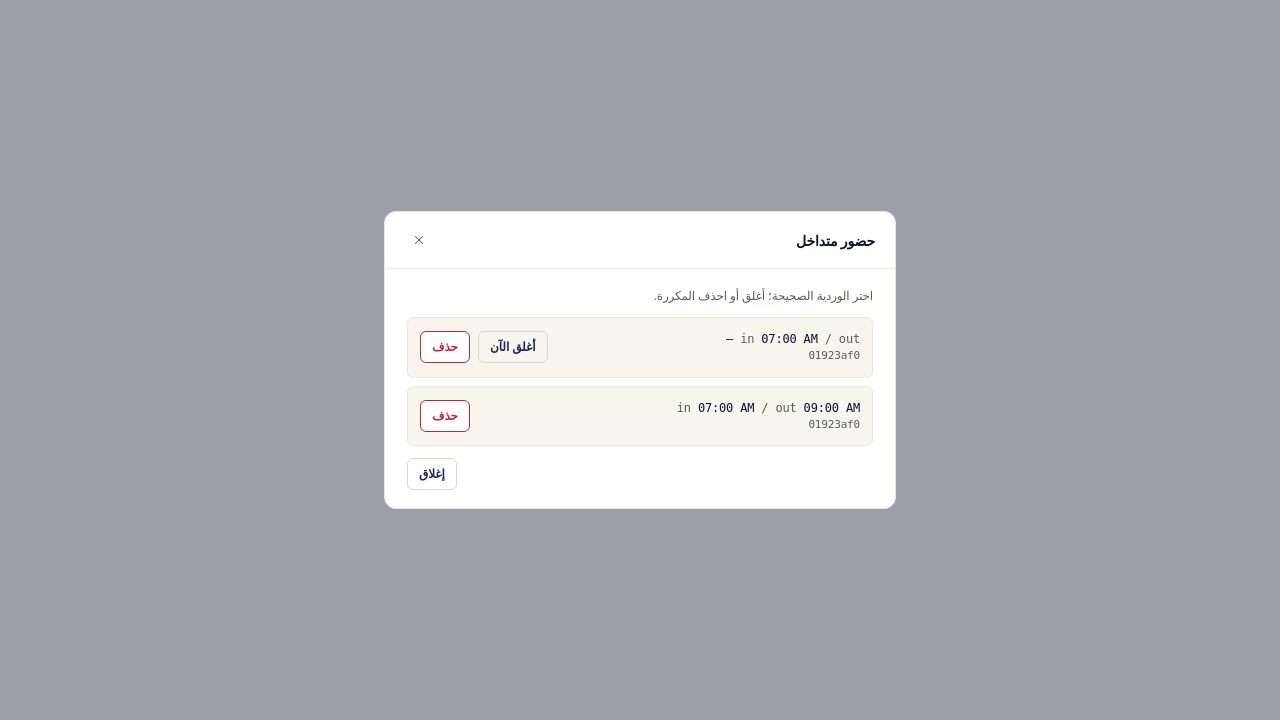
Test: Phase-09 §8 component-render: ResolveOverlappingShifts (dir=rtl) › all Delete buttons disable while ANY soft_delete is pending
Expected: the number of list items is 2, [407,317,873,378]; [407,386,873,446]
Step 1. Click the 1st button "حذف" → (445, 347), box [420,331,470,363]
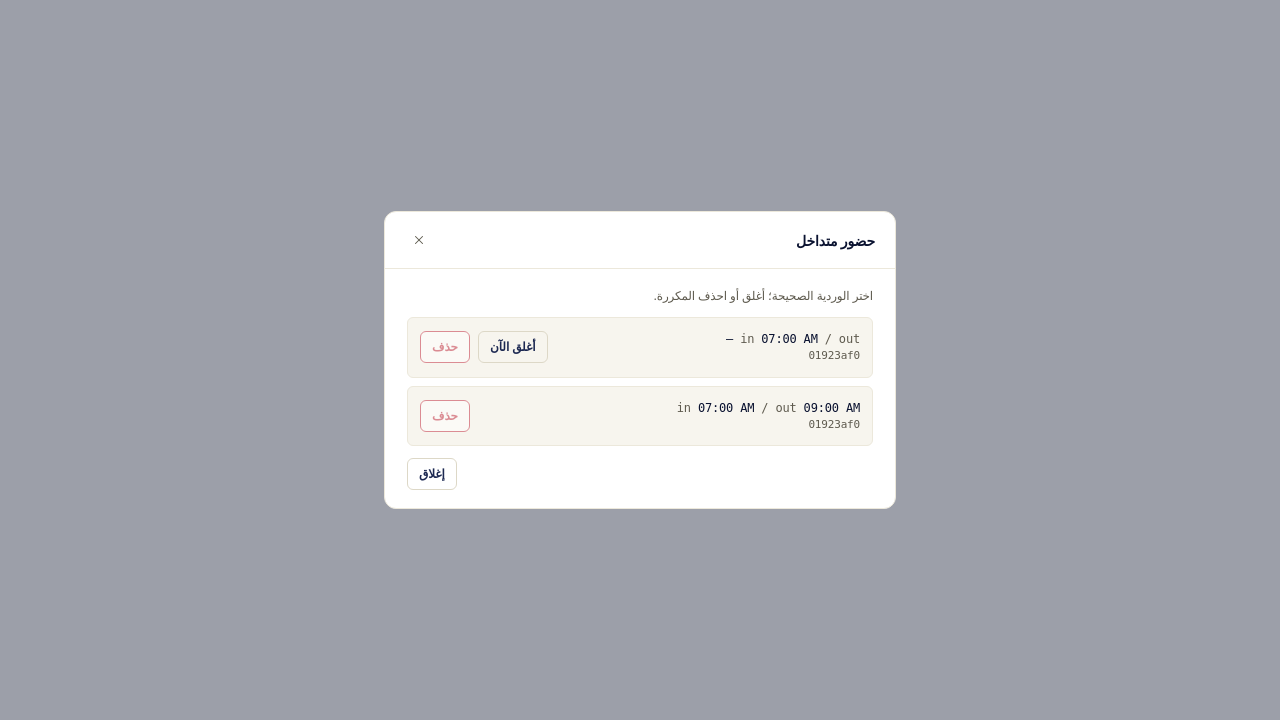
Result: the 1st button "حذف" is disabled at [420,331,470,363]
Result: the button "حذف" in the row of "09:00 AM" is disabled at [420,400,470,432]
